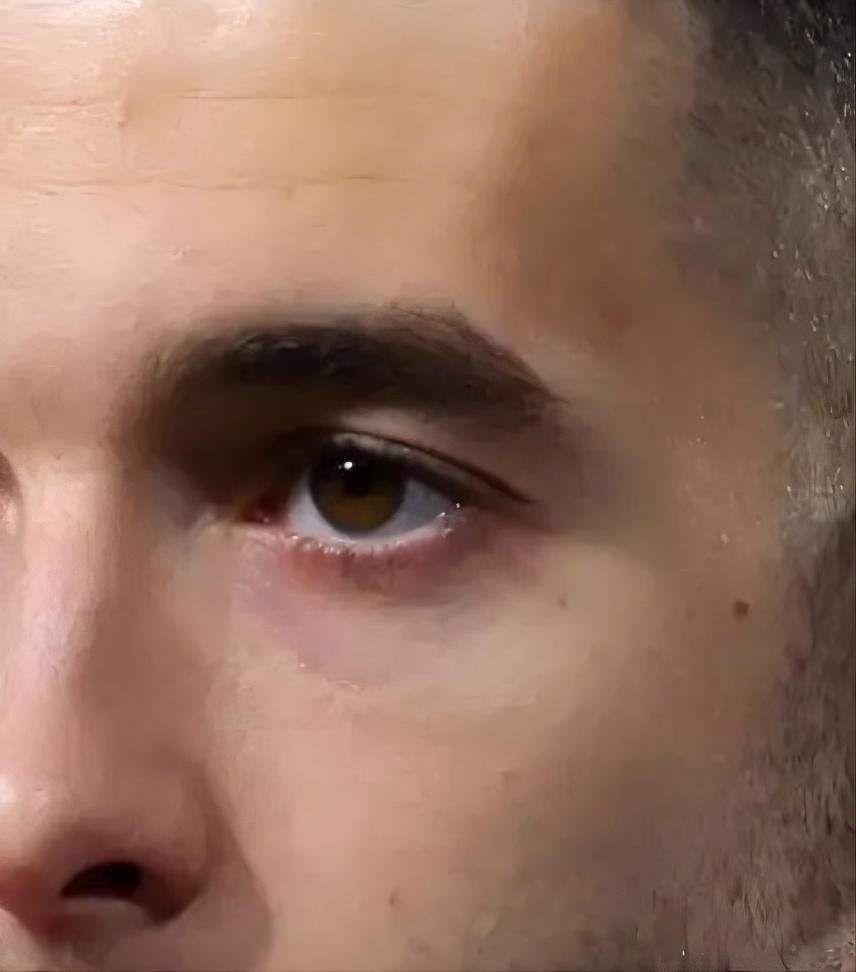iris: (310, 456, 408, 536)
pupil: (335, 460, 378, 501)
sclera: (283, 470, 462, 546)
